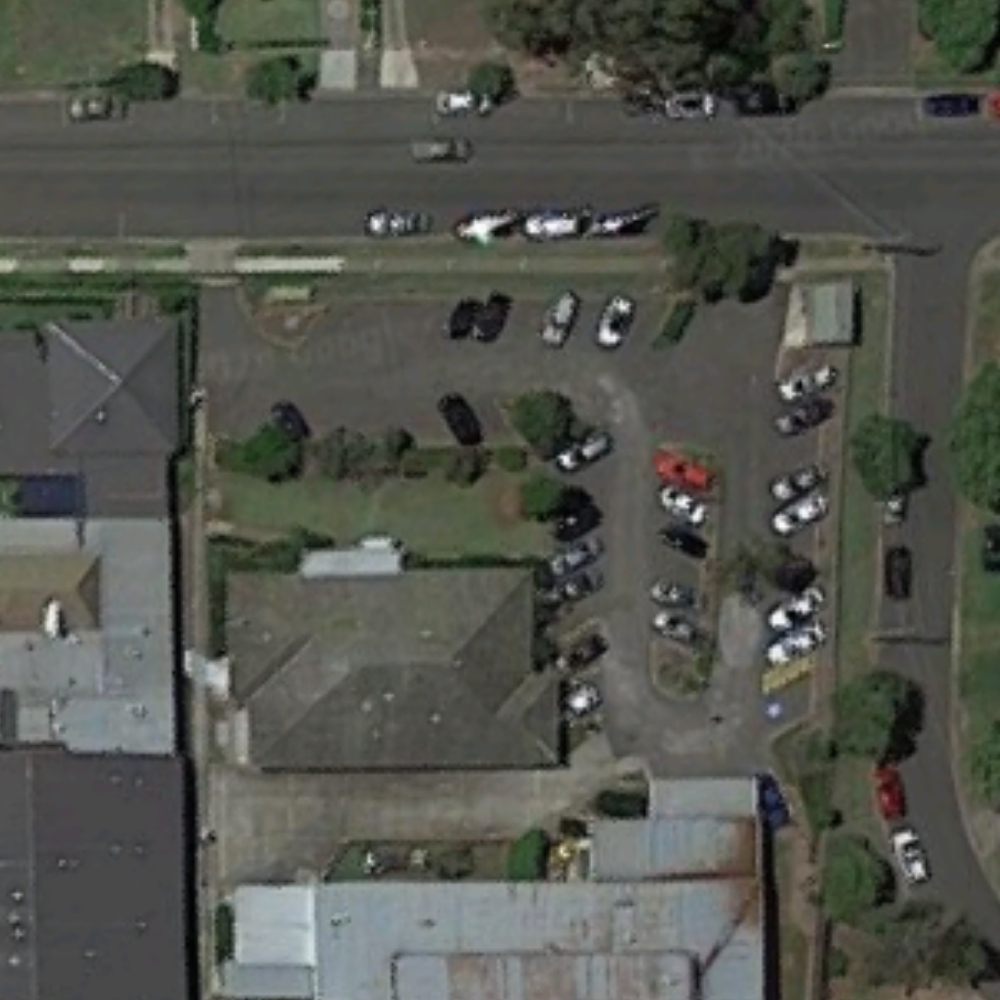parking: (195, 280, 810, 780)
